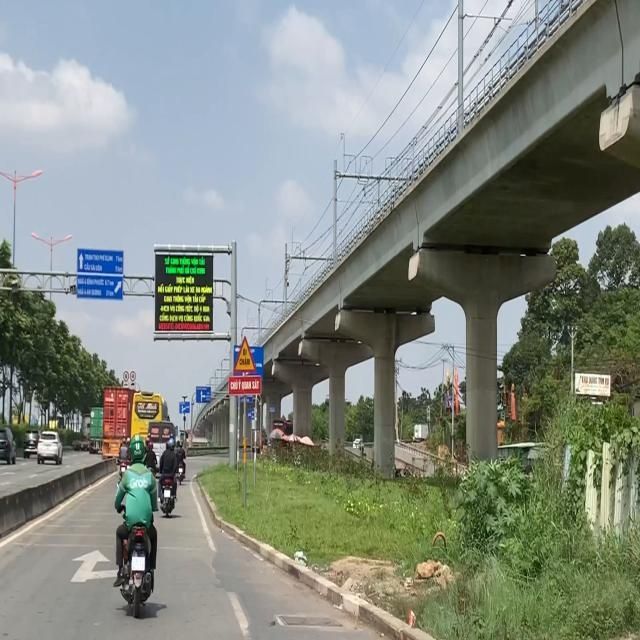bien_chi_dan: (232, 335, 258, 374)
